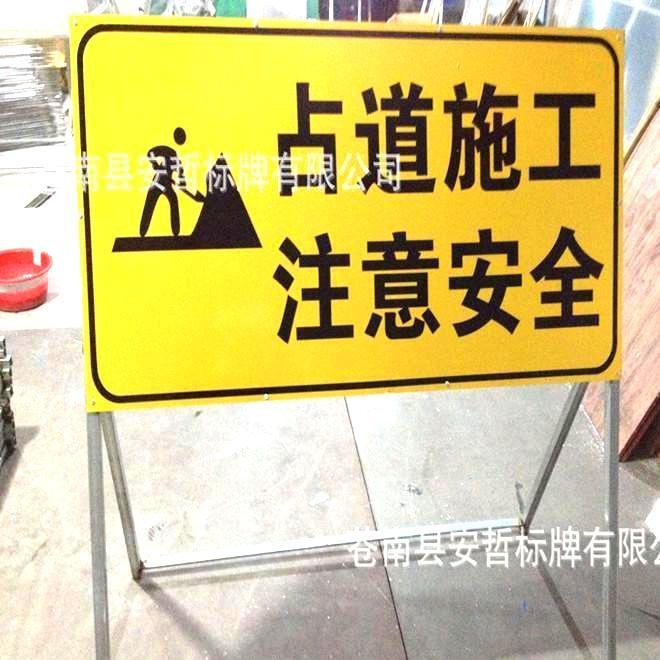sign: (72, 21, 620, 389)
